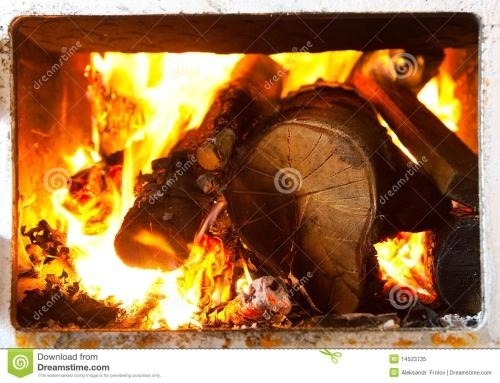fire: (82, 50, 248, 137), (139, 238, 253, 331), (267, 49, 365, 93), (372, 229, 434, 296), (416, 72, 463, 134), (375, 110, 422, 166), (362, 47, 407, 78)
